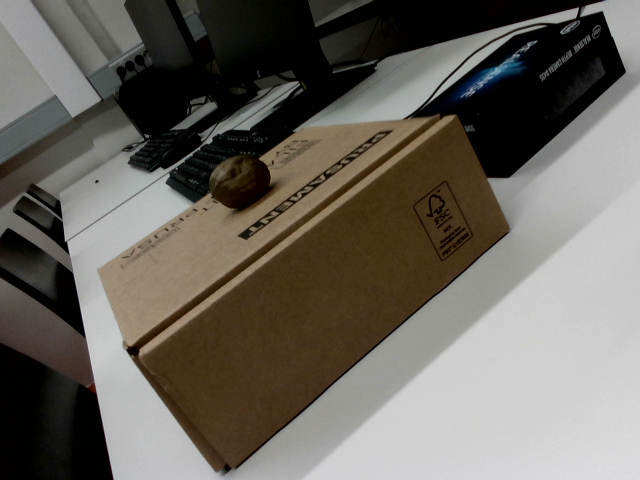walnut: (200, 142, 279, 219)
